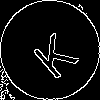K: (25, 25, 80, 81)
